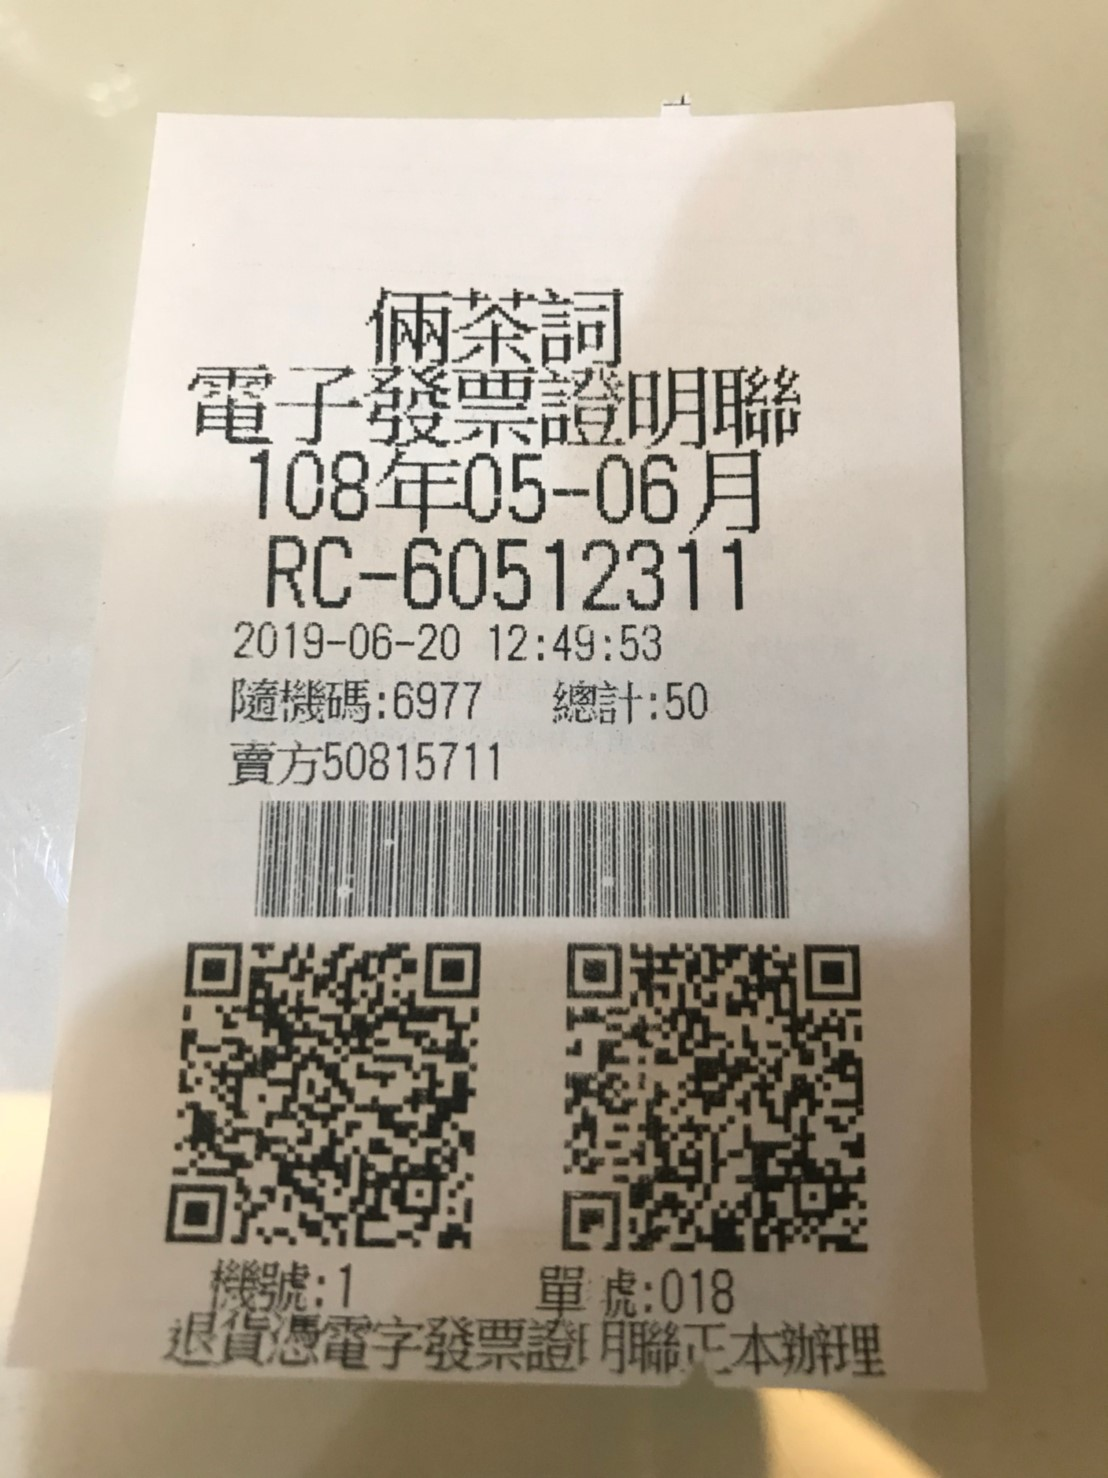Date_New: (243, 446, 766, 539)
Number_New: (400, 533, 755, 614)
